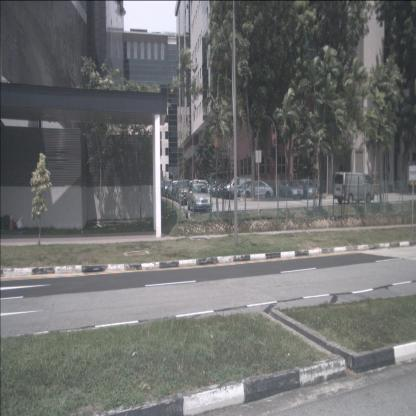cone: (8, 213, 14, 232)
